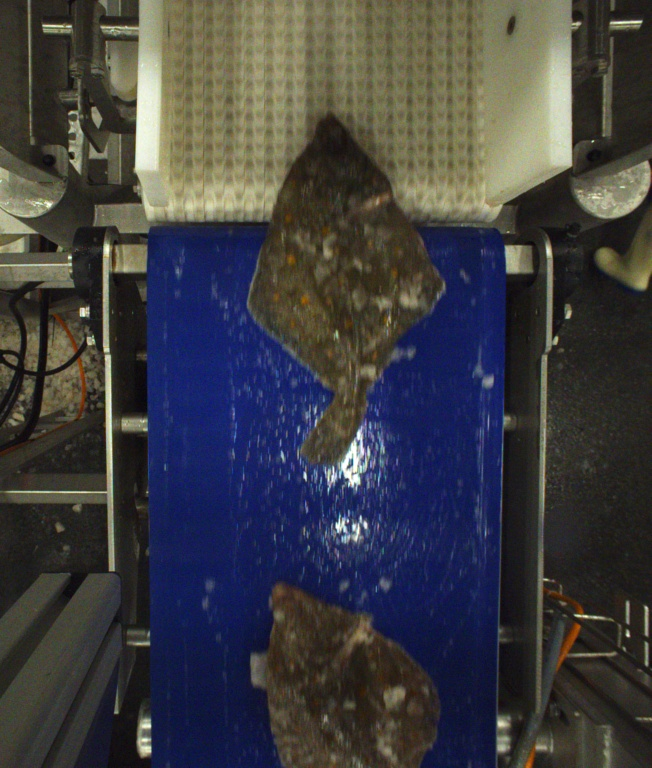PLE: (244, 111, 446, 469)
